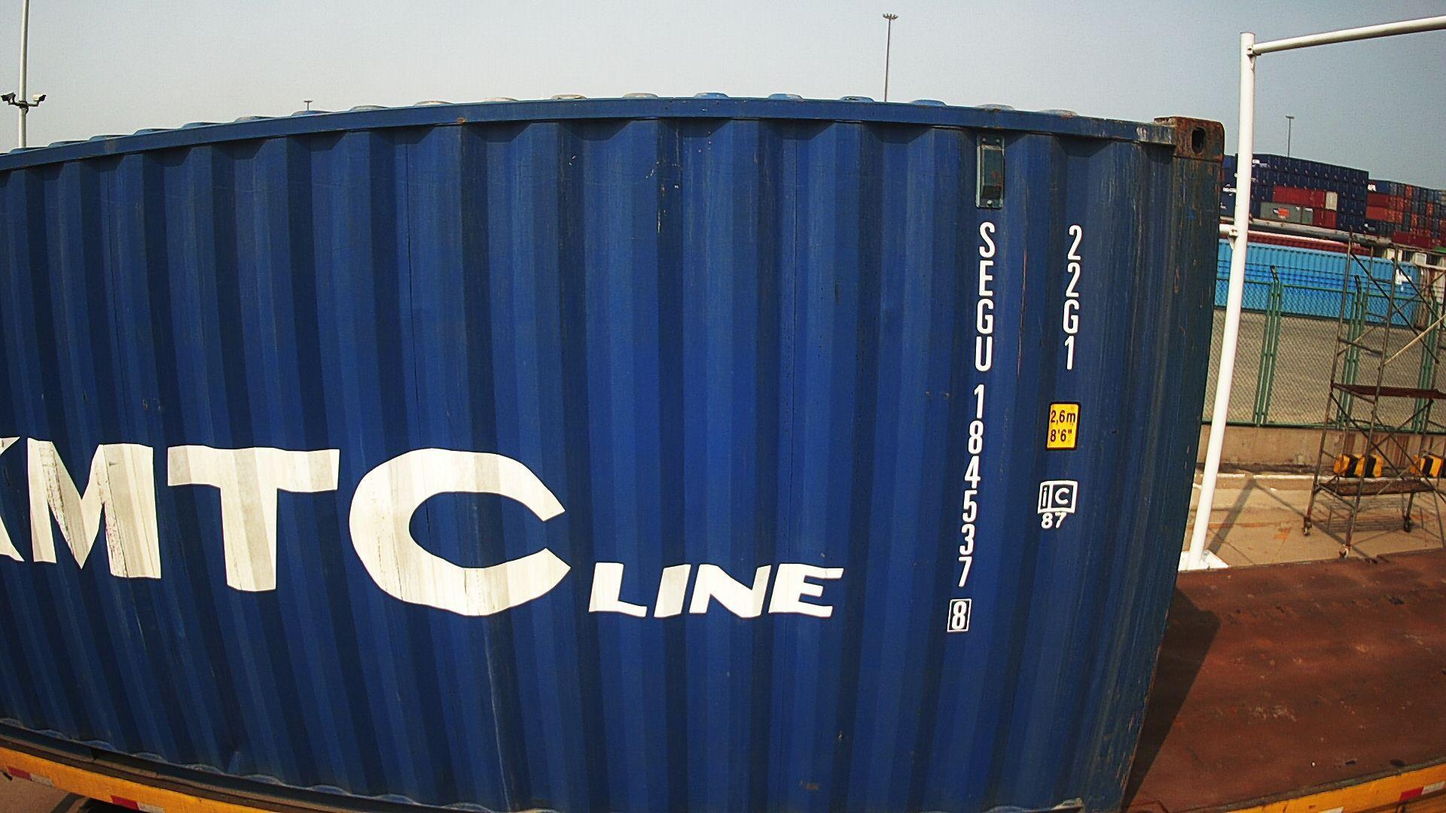container-numbers: (946, 213, 1004, 638), (1054, 219, 1087, 377)
